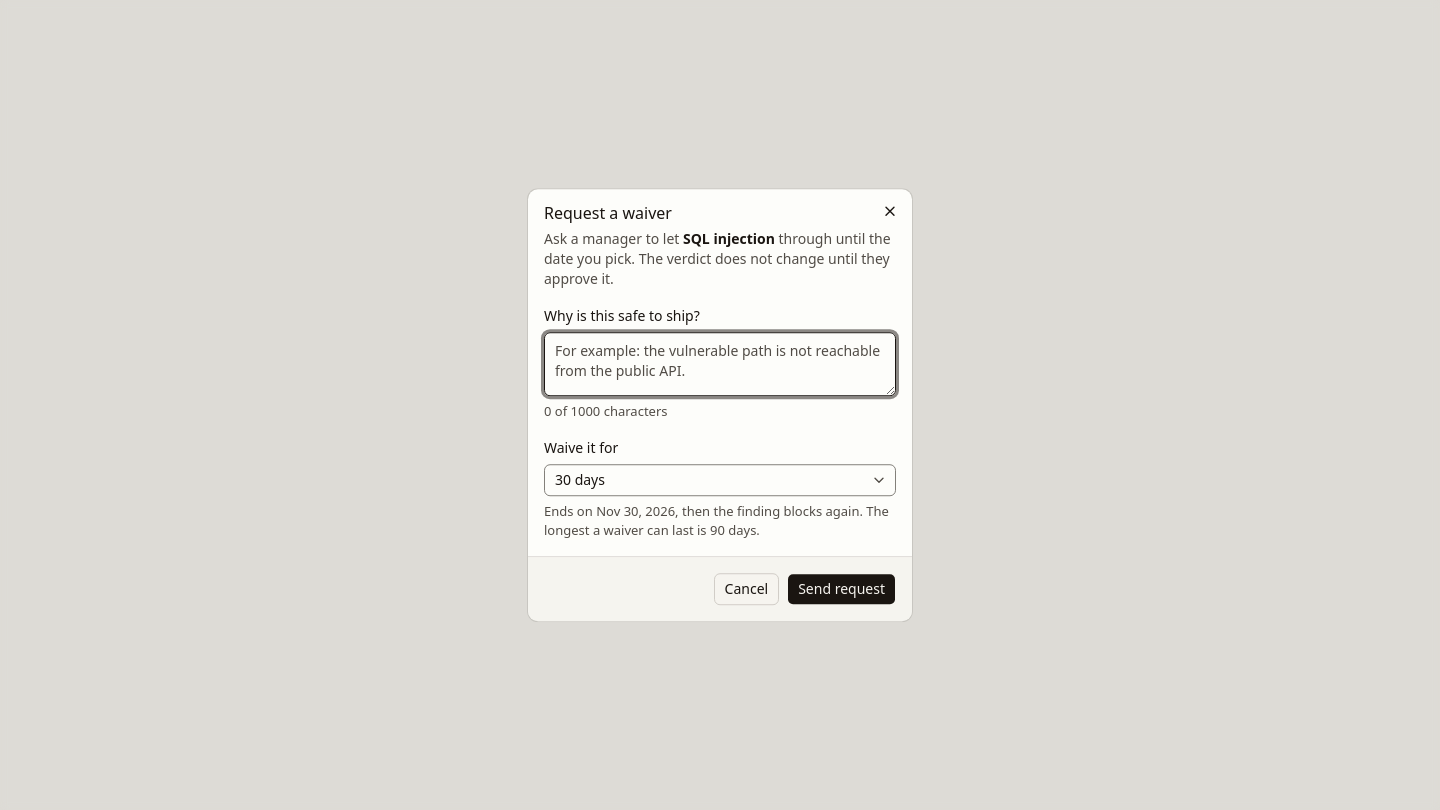
Scenario: WaiverRequestDialog limits › counts characters as the person types
Expected: the text "0 of 1000 characters" is shown, x1=544 y1=402 x2=668 y2=420
Type "abc" into the text box labelled "Why is this safe to ship?" at (720, 364), box x1=544 y1=332 x2=896 y2=396
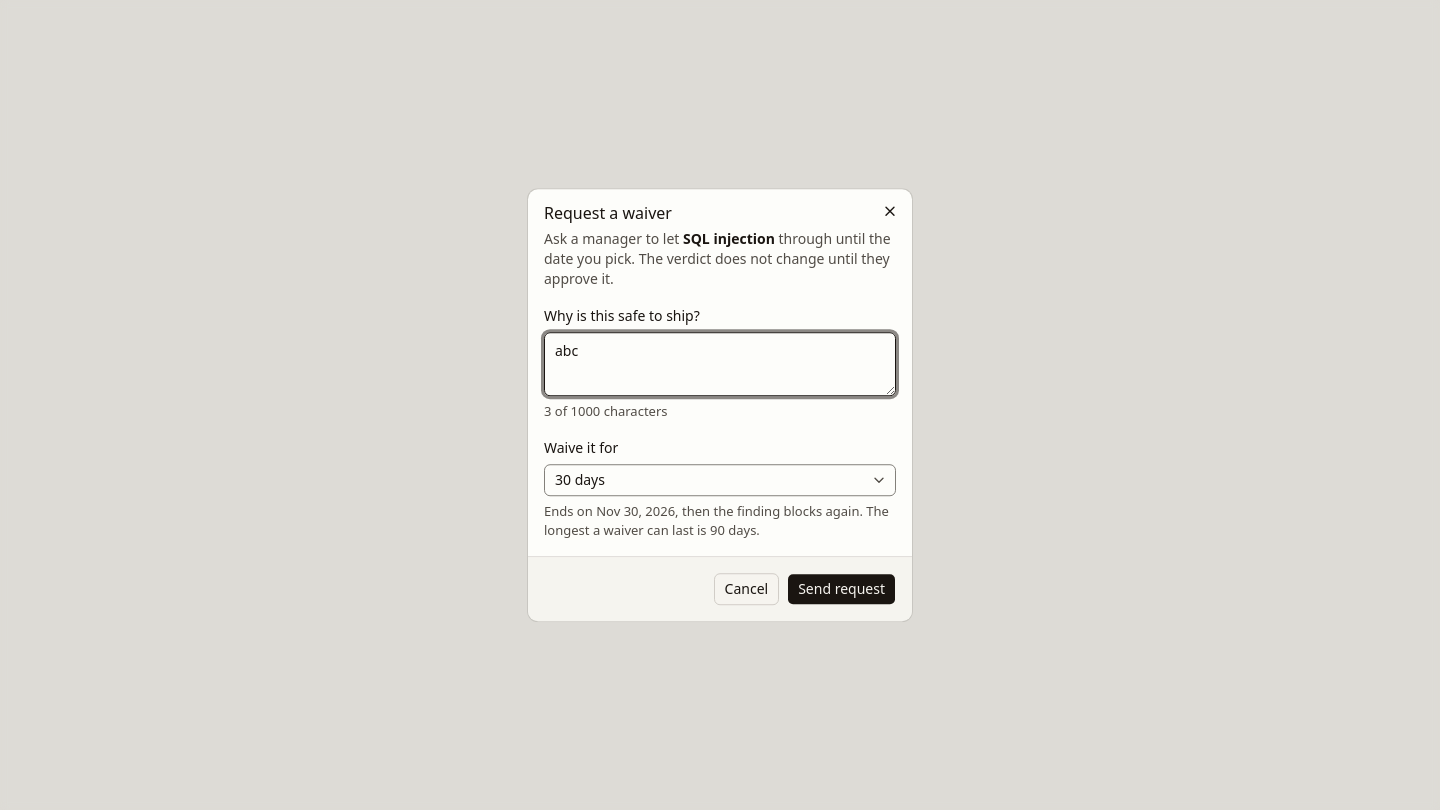
Result: the text "3 of 1000 characters" is shown at x1=544 y1=402 x2=668 y2=420
